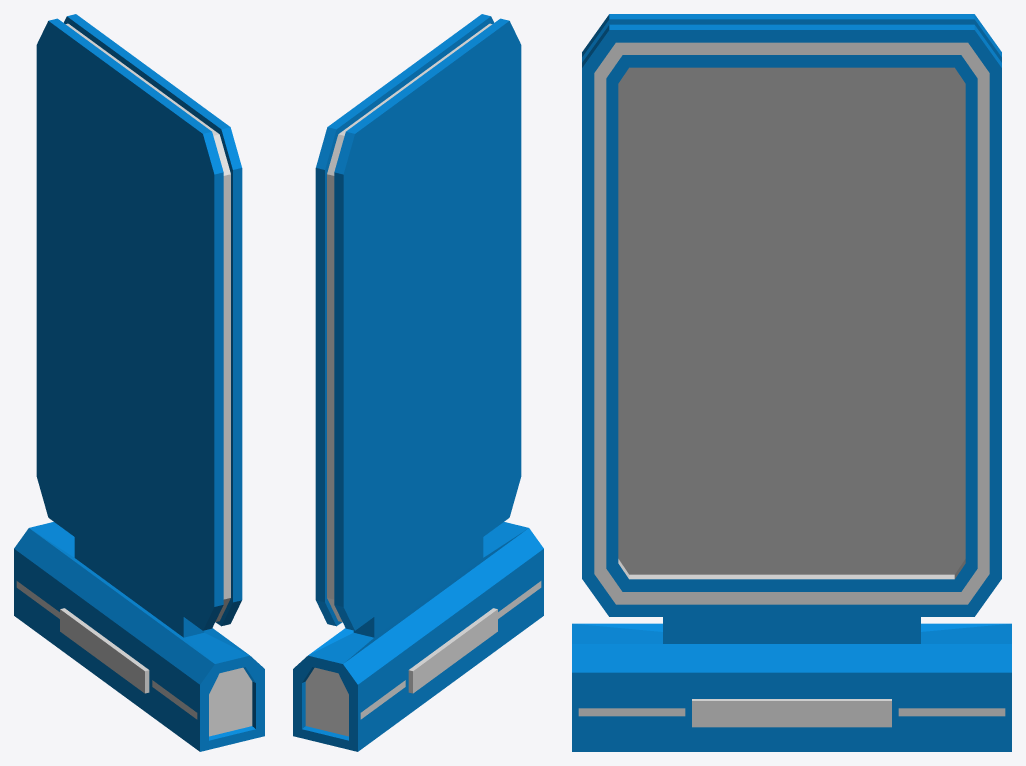
The model's file is Potrait.fbx.
3 views of the same model, side by side, from view 1: azimuth 30°, elevation 25°; view 2: azimuth 150°, elevation 25°; view 3: azimuth 270°, elevation 25° (orthographic). The views are drawn at different scales.
Parts seen in each view (by area): view 1: Cube; view 2: Cube; view 3: Cube.
Part boxes in pixels (x1,y1,x2,y2): Cube: (14,14,264,751); Cube: (293,14,543,751); Cube: (572,14,1011,751).
Size of the model in its own units: 47.3 by 374 by 210.
